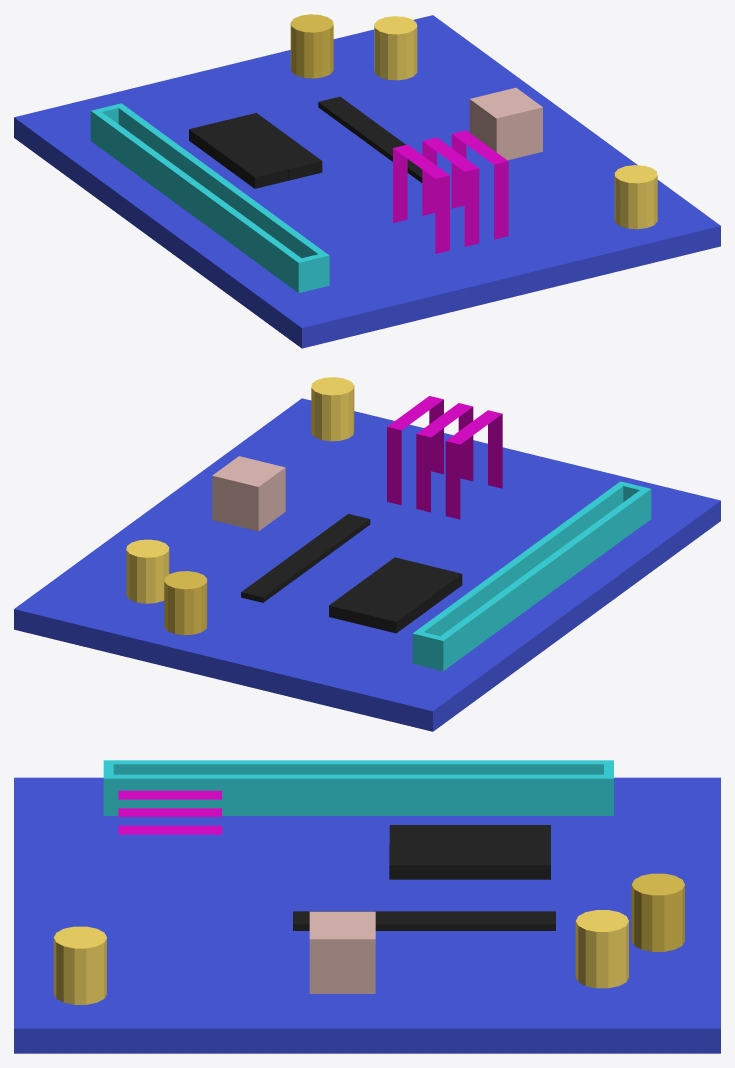
File: memoryShard.fbx
The picture shows the model from 3 angles, top to bottom: view 1: azimuth 30°, elevation 25°; view 2: azimuth 150°, elevation 25°; view 3: azimuth 270°, elevation 25°; orthographic projection. The views are drawn at different scales.
Parts seen in each view (by area): view 1: Cube, Cube.002, Cube.001, Cube.004, Cube.003, Cube.005, Cylinder, Cylinder.001, Cylinder.002, Cube.006; view 2: Cube, Cube.002, Cube.001, Cube.004, Cube.003, Cube.006, Cylinder.002, Cylinder.001, Cube.005, Cylinder; view 3: Cube, Cube.002, Cube.005, Cube.004, Cube.006, Cylinder, Cylinder.001, Cylinder.002, Cube.003, Cube.001.
Boxes of the visible parts, x1,y1,x2,y2 form: Cube: [14, 15, 720, 348]; Cube.002: [90, 103, 329, 292]; Cube.001: [393, 130, 508, 253]; Cube.004: [469, 87, 542, 160]; Cube.003: [189, 121, 287, 188]; Cube.005: [222, 113, 322, 180]; Cylinder: [374, 16, 417, 80]; Cylinder.001: [290, 14, 333, 78]; Cylinder.002: [614, 165, 657, 229]; Cube.006: [318, 96, 422, 182]; Cube: [14, 398, 720, 731]; Cube.002: [412, 481, 651, 671]; Cube.001: [387, 396, 502, 519]; Cube.004: [212, 456, 285, 531]; Cube.003: [362, 565, 462, 633]; Cube.006: [241, 514, 370, 602]; Cylinder.002: [311, 377, 354, 441]; Cylinder.001: [164, 571, 207, 635]; Cube.005: [329, 557, 428, 624]; Cylinder: [126, 539, 169, 603]; Cube: [14, 777, 720, 1053]; Cube.002: [103, 760, 613, 815]; Cube.005: [389, 845, 550, 879]; Cube.004: [309, 911, 375, 993]; Cube.006: [293, 911, 555, 930]; Cylinder: [575, 910, 628, 988]; Cylinder.001: [631, 873, 684, 951]; Cylinder.002: [53, 926, 106, 1004]; Cube.003: [389, 825, 550, 844]; Cube.001: [118, 790, 221, 834].
Bounding box in the file's own units: 200 × 43.59 × 238.
